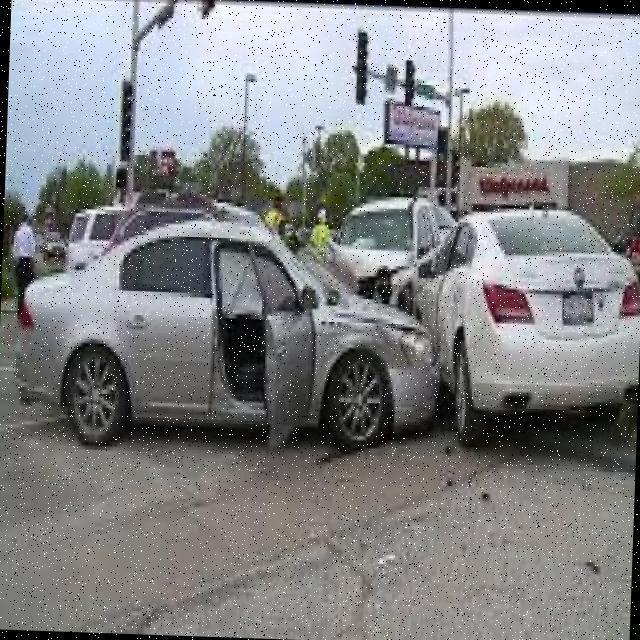accident: (16, 191, 640, 453)
